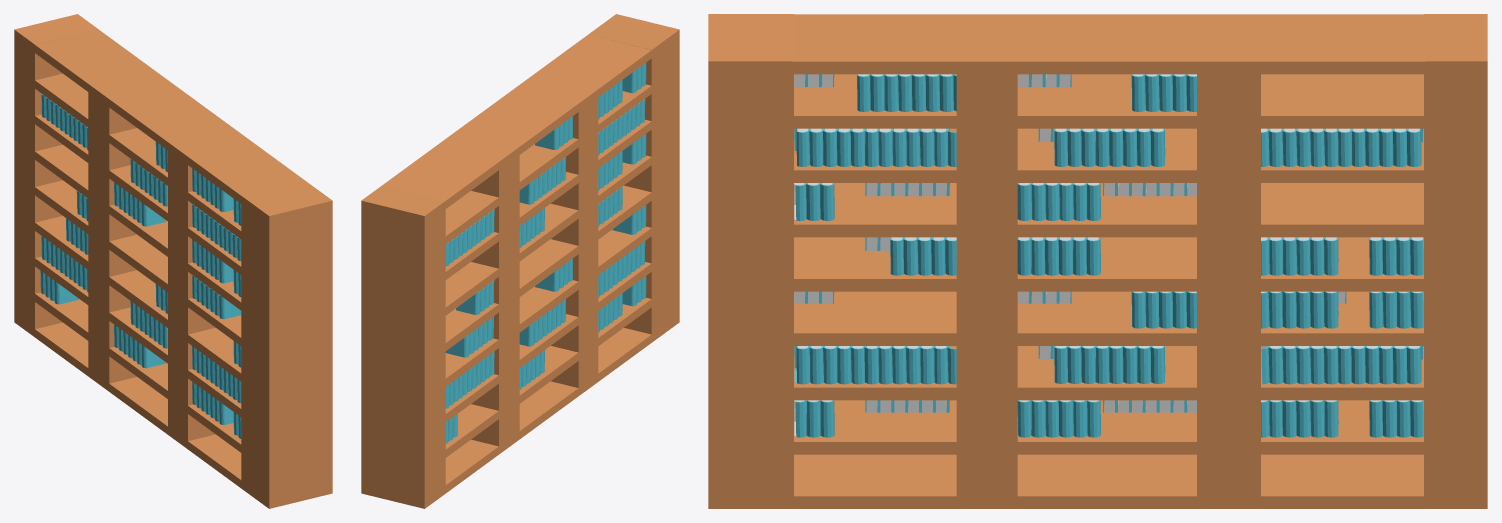
File: librero.glb
3 views of the same model, side by side, from view 1: azimuth 30°, elevation 25°; view 2: azimuth 150°, elevation 25°; view 3: azimuth 270°, elevation 25° (orthographic). The views are drawn at different scales.
Visible parts, largest first — view 1: Plane, libros; view 2: Plane, libros; view 3: Plane, libros, libros_papel.
Part boxes in pixels (x1,y1,x2,y2): Plane: (14, 14, 332, 508); libros: (40, 93, 241, 438); Plane: (361, 14, 679, 508); libros: (445, 63, 646, 443); Plane: (708, 14, 1487, 508); libros: (794, 74, 1423, 437); libros_papel: (794, 74, 1423, 436).
Size of the model in its own units: 1.57 by 6.93 by 10.94.
